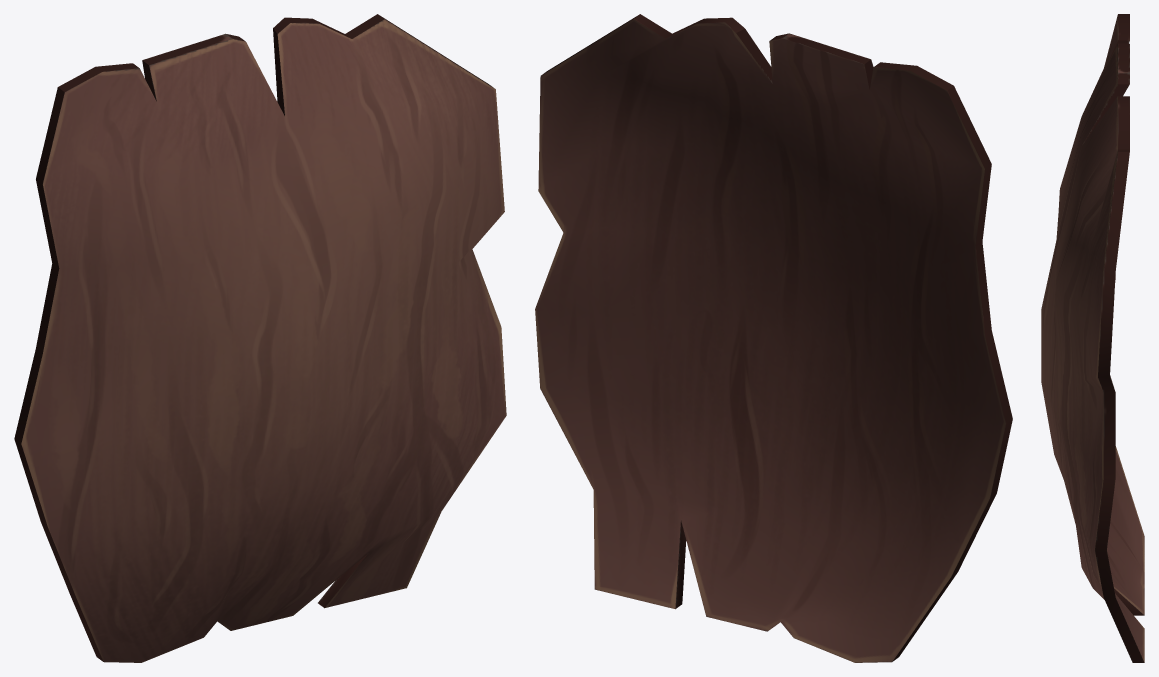
Rendered from boomschild.FBX.
3 views of the same model, side by side, from view 1: azimuth 30°, elevation 25°; view 2: azimuth 150°, elevation 25°; view 3: azimuth 270°, elevation 25° (orthographic). The views are drawn at different scales.
Visible parts, largest first — view 1: Box001; view 2: Box001; view 3: Box001.
Part boxes in pixels (x1,y1,x2,y2): Box001: (14,14,506,662); Box001: (535,14,1012,662); Box001: (1041,14,1144,662).
Bounding box in the file's own units: 40.63 × 49.5 × 8.86.
Materials: 1 (1 with a texture image).
